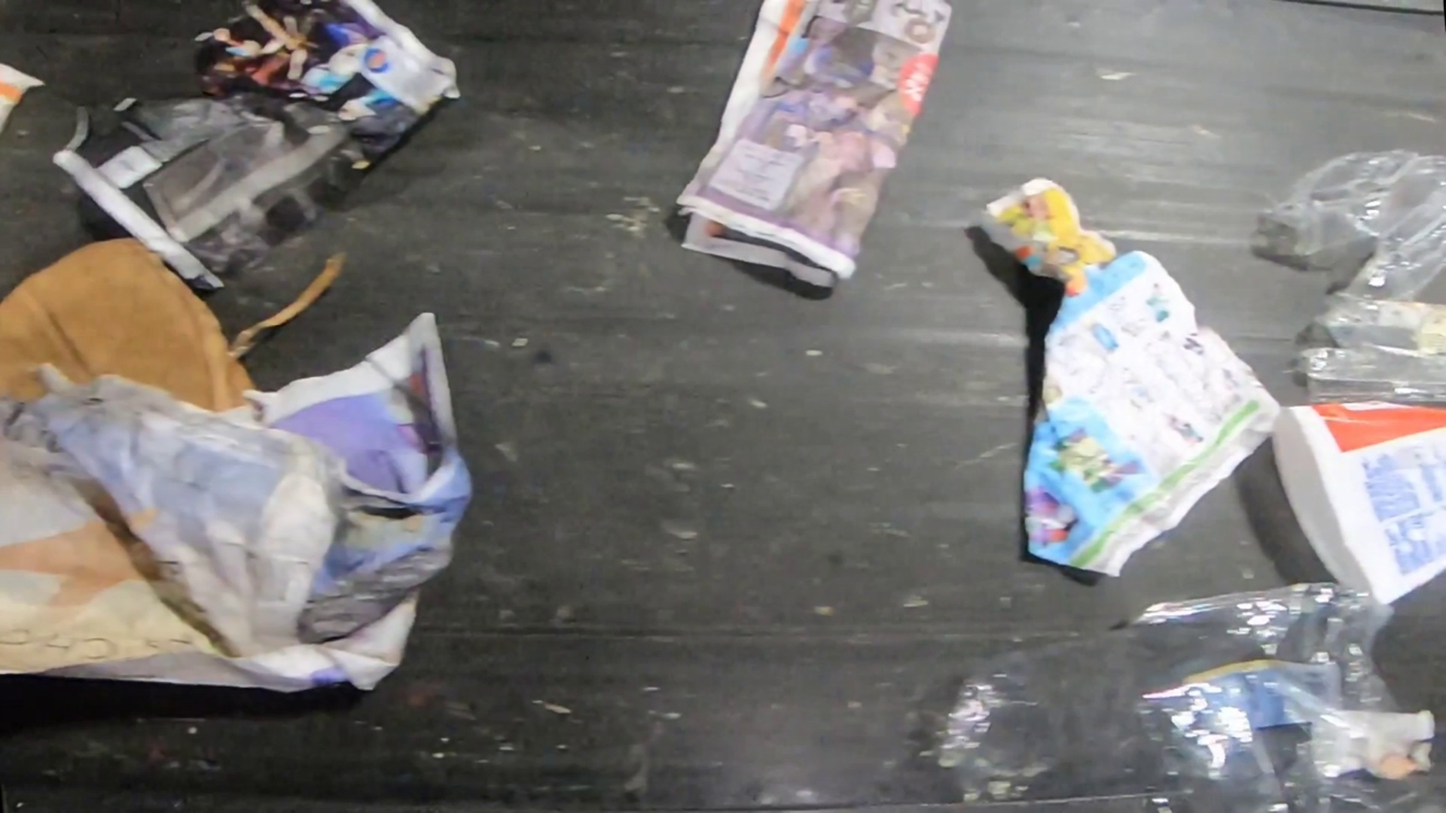cardboard: (0, 235, 342, 415)
plastic: (933, 582, 1434, 813), (1252, 149, 1446, 409), (1269, 400, 1446, 603)
